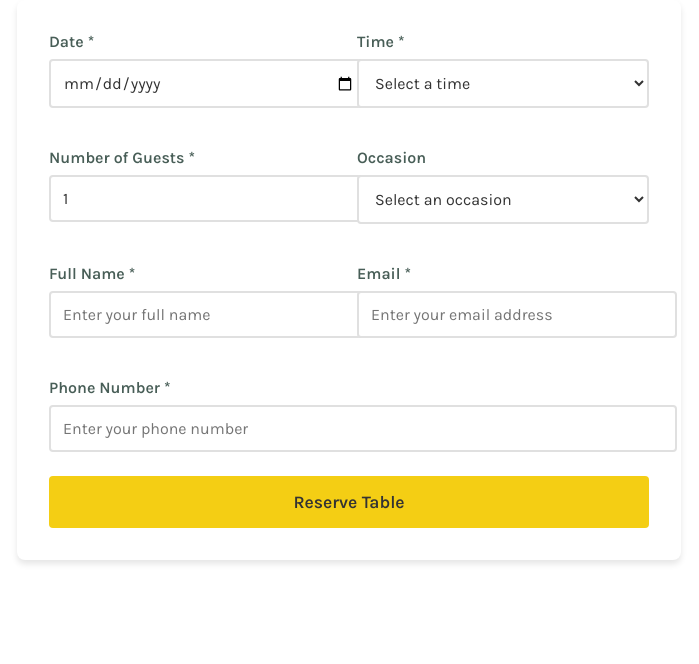
BookingForm Component › validates guest count range
Replace the text in the number field labelled "Number of Guests *" with "15" at (209, 198), box top-left (49, 175), bottom-right (369, 222)
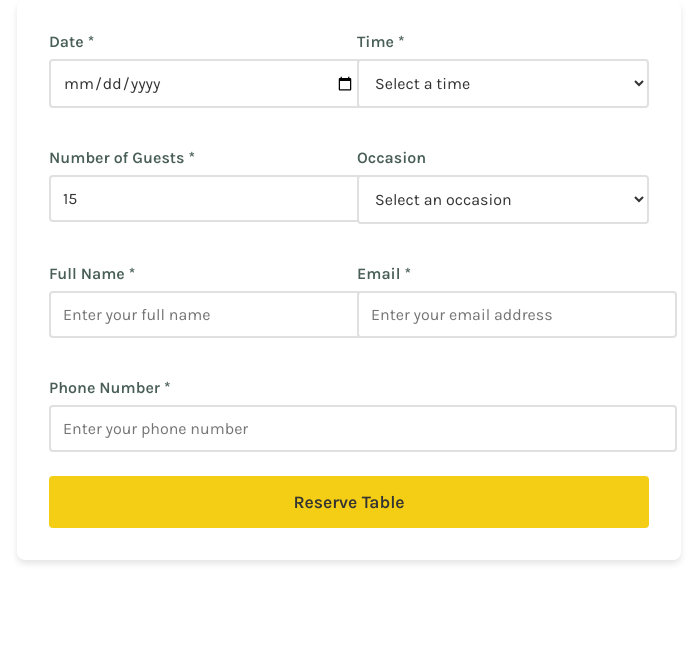
Click the button "Reserve Table" at (349, 502), box top-left (49, 476), bottom-right (649, 528)
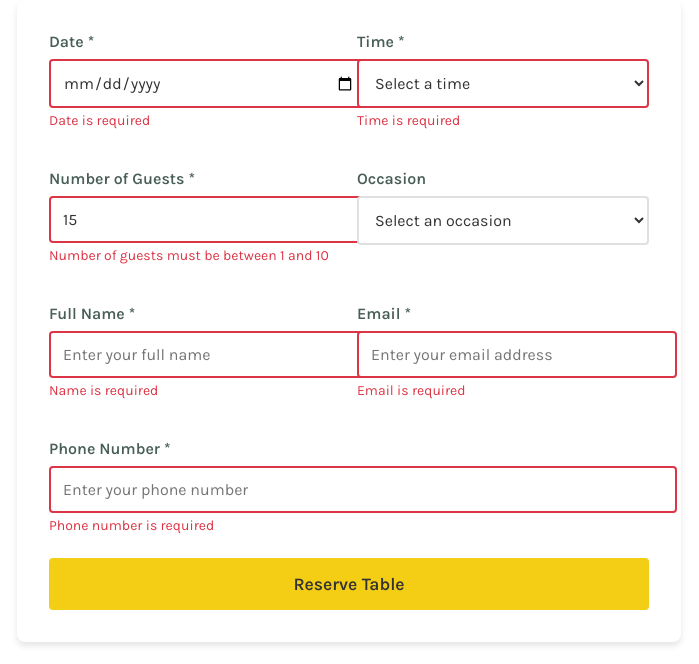
Now the text "Number of guests must be between 1 and 10" is shown, box top-left (49, 247), bottom-right (341, 264)
